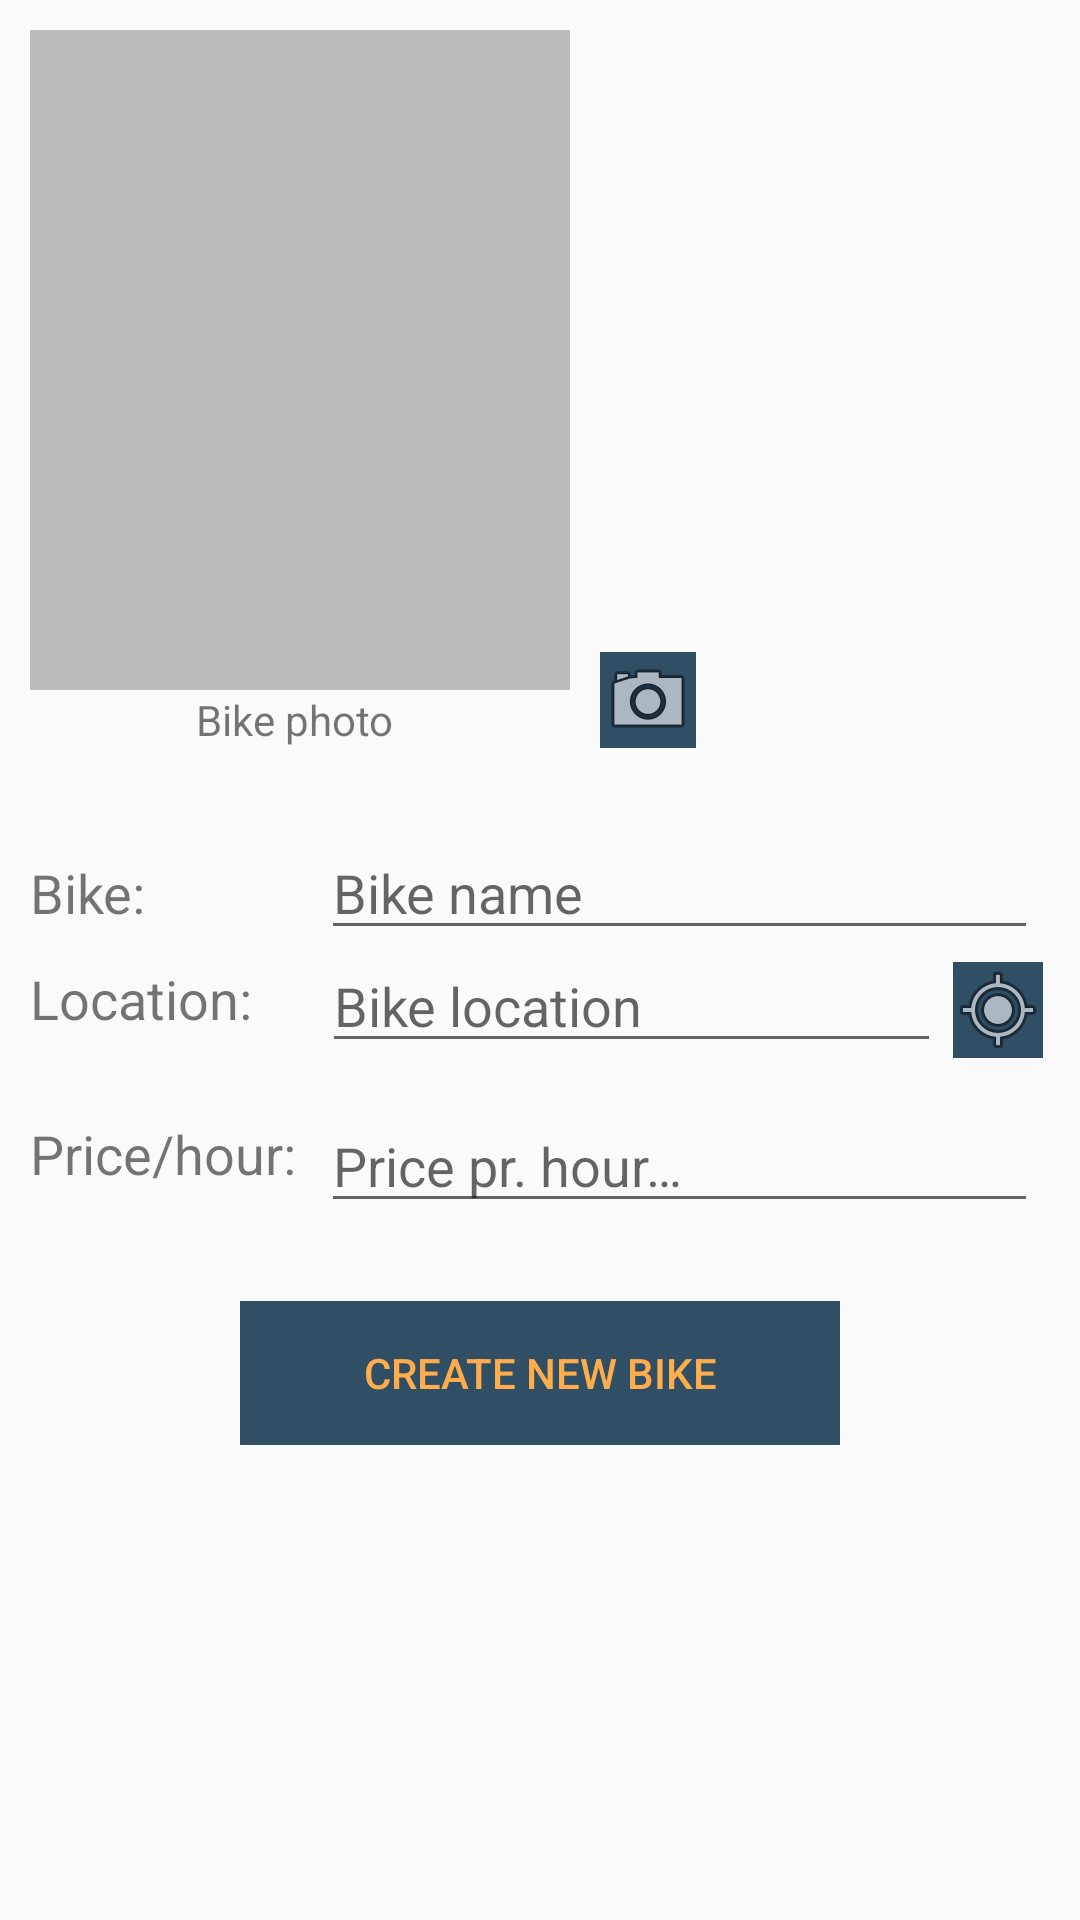

Icons on this 1080px×1920px Android screen, each with the point to tap as (x=x, y=y):
camera: (x=648, y=700)
mylocation: (x=998, y=1010)
